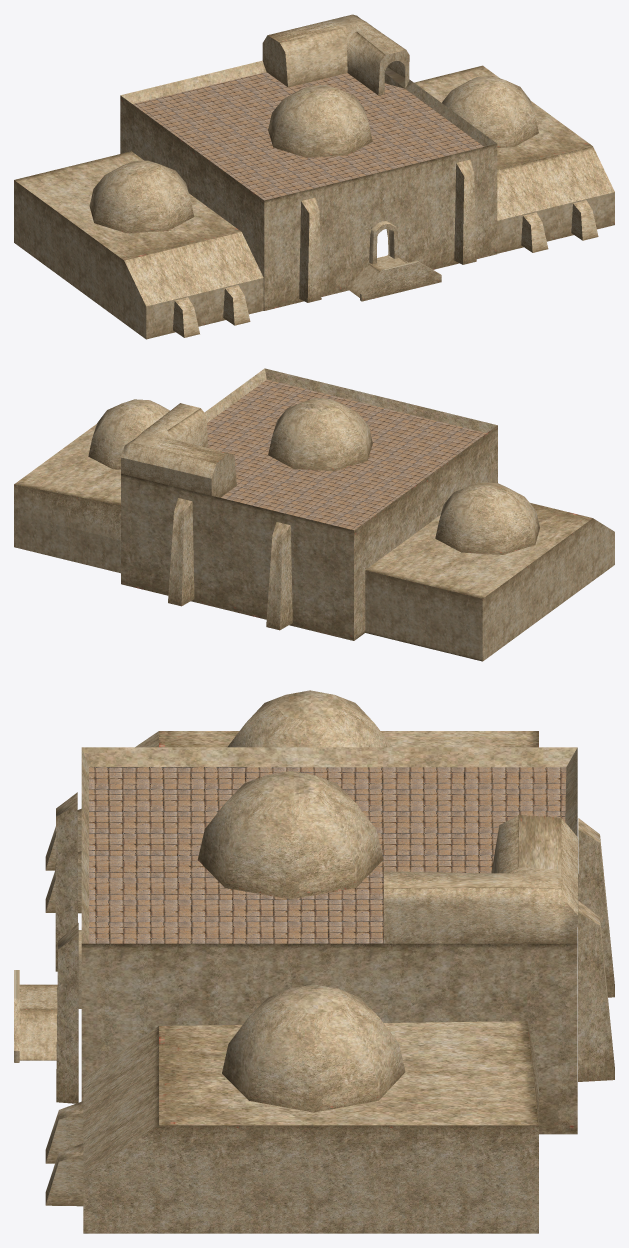
Rendered from thm_tato_assoc_hall_civ_s02_r0_mesh_l1.fbx.
3 renders of one model, top to bottom at view 1: azimuth 30°, elevation 25°; view 2: azimuth 150°, elevation 25°; view 3: azimuth 270°, elevation 25°, orthographic. The views are drawn at different scales.
Parts seen in each view (by area): view 1: mesh_node; view 2: mesh_node; view 3: mesh_node.
Part boxes in pixels (<box>): mesh_node: <box>14,14,614,339</box>; mesh_node: <box>14,368,614,661</box>; mesh_node: <box>14,690,614,1233</box>.
Size of the model in its own units: 52.8 by 16 by 34.
